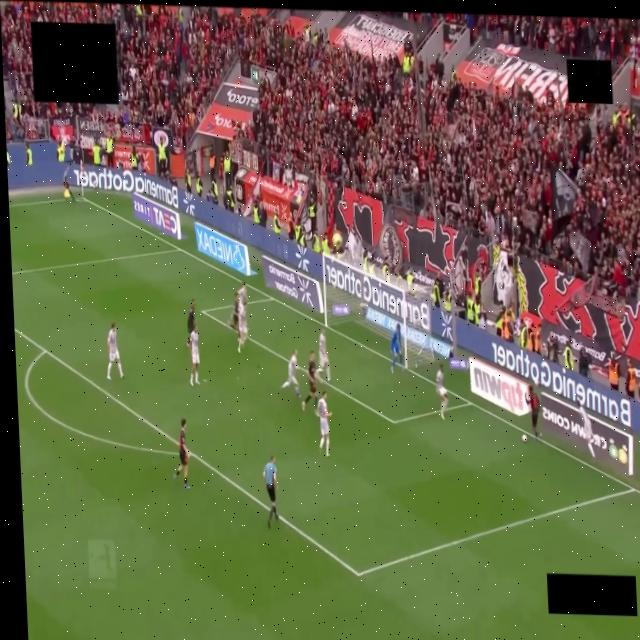ball: (522, 434, 526, 442)
player: (173, 419, 188, 489), (316, 391, 331, 456), (106, 323, 123, 379), (302, 352, 317, 410), (578, 403, 594, 457), (282, 350, 299, 397), (525, 384, 539, 438), (316, 329, 329, 383), (435, 365, 447, 420), (189, 325, 199, 385), (391, 323, 402, 372), (238, 302, 247, 352), (230, 293, 238, 336), (187, 299, 194, 345), (238, 283, 246, 303)
referee: (263, 456, 278, 527)
